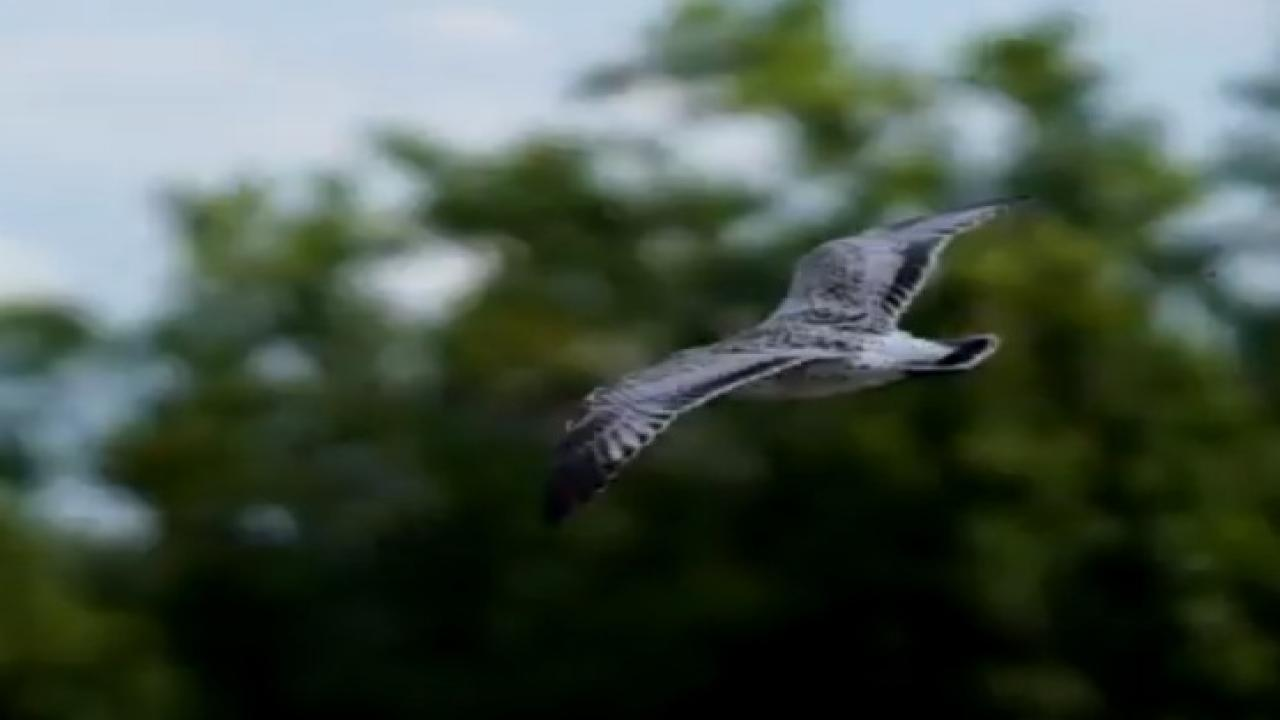Bird: (530, 189, 1048, 545)
